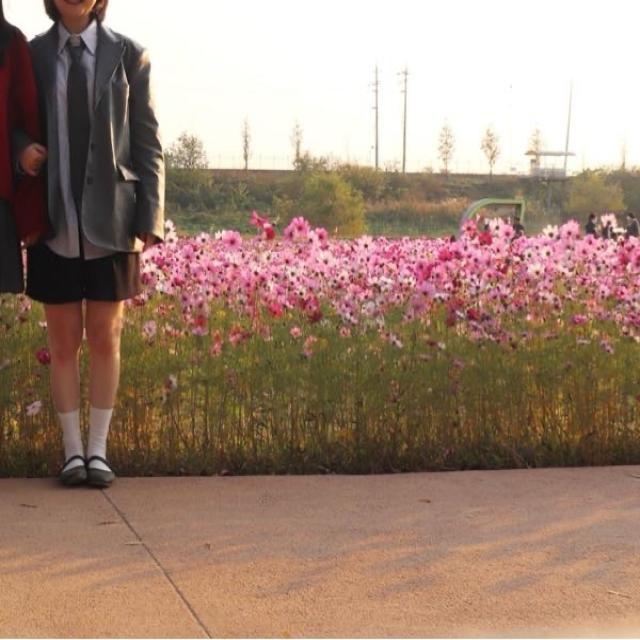blazer: (19, 22, 165, 252)
shortpants: (25, 218, 145, 306)
